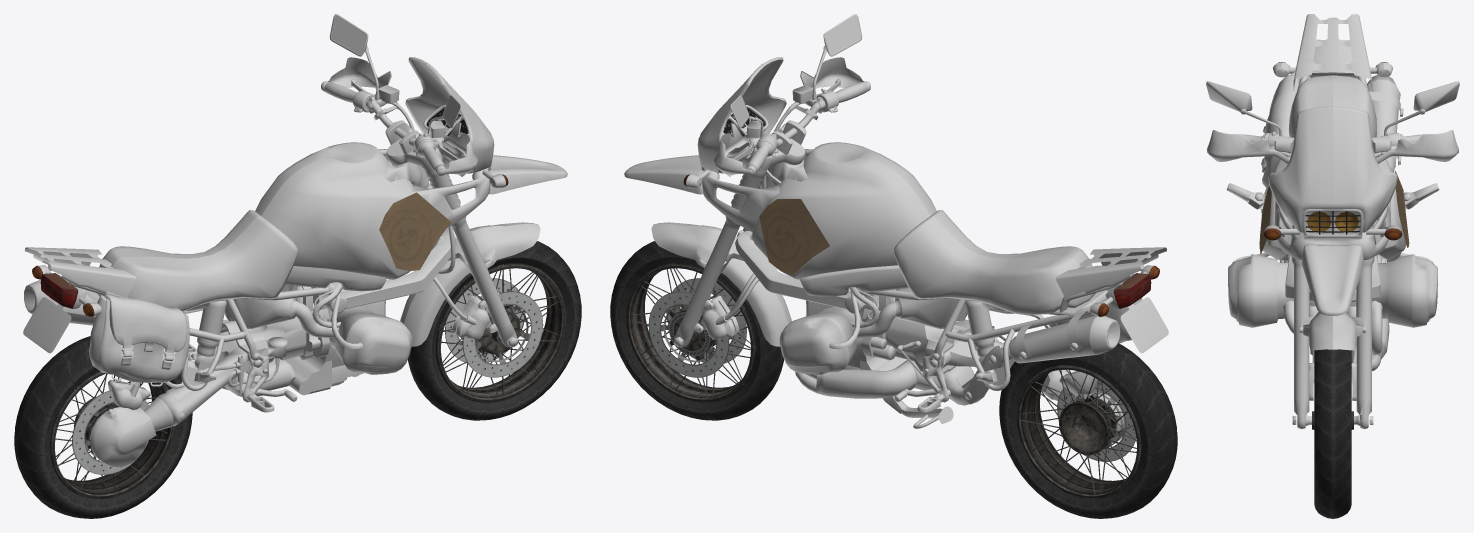
Rendered from Motorcycle01.FBX.
3 renders of one model, left to right at view 1: azimuth 30°, elevation 25°; view 2: azimuth 150°, elevation 25°; view 3: azimuth 270°, elevation 25°, orthographic.
Visible parts, largest first — view 1: Motorbike_03; view 2: Motorbike_03; view 3: Motorbike_03.
Boxes of the visible parts, <box> form: Motorbike_03: <box>14,14,581,518</box>; Motorbike_03: <box>610,14,1177,518</box>; Motorbike_03: <box>1206,14,1459,518</box>.
Size of the model in its own units: 211 by 138 by 82.59.
